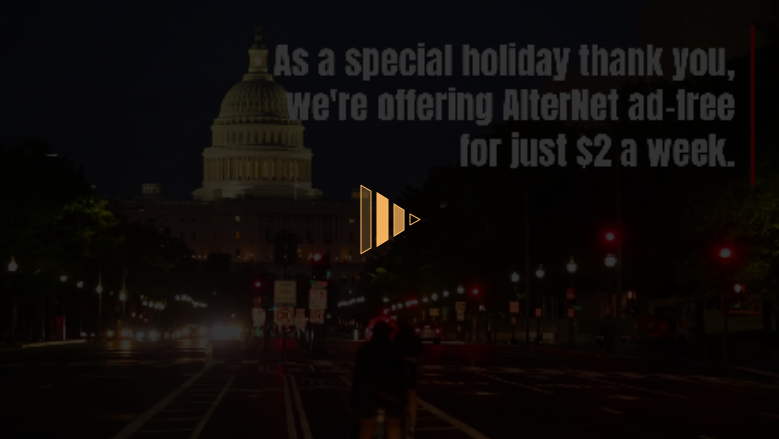fake_button: (351, 172, 439, 261)
